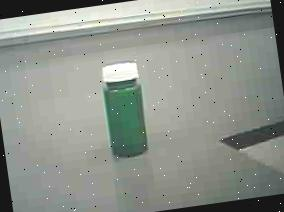Bottle C: (90, 52, 164, 170)
